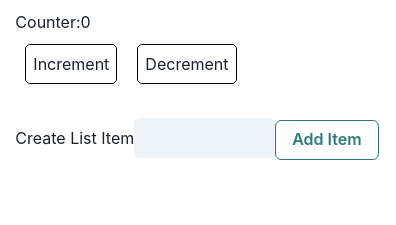
Test case: App › removes an item from the list when the remove button is clicked
The image size is (396, 225).
Type "Item to remove" into the field labelled "Create List Item" at point(205, 138), box [134,118,275,158]
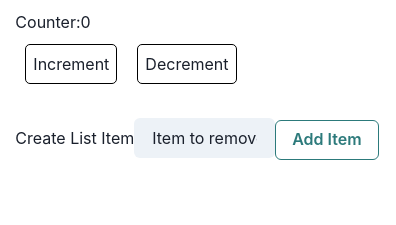
Click the button with test id "add-item" at point(327, 140), box [275,120,379,160]
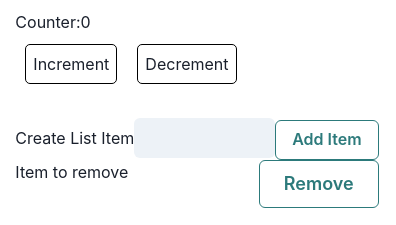
Click the button with test id "remove-item0" at point(319, 184), box [259,160,379,208]
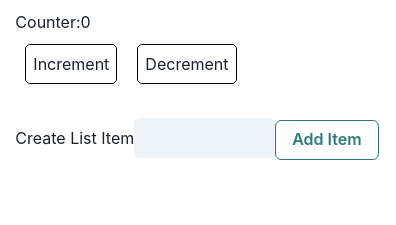
Result: the text "Item to remove" is gone
